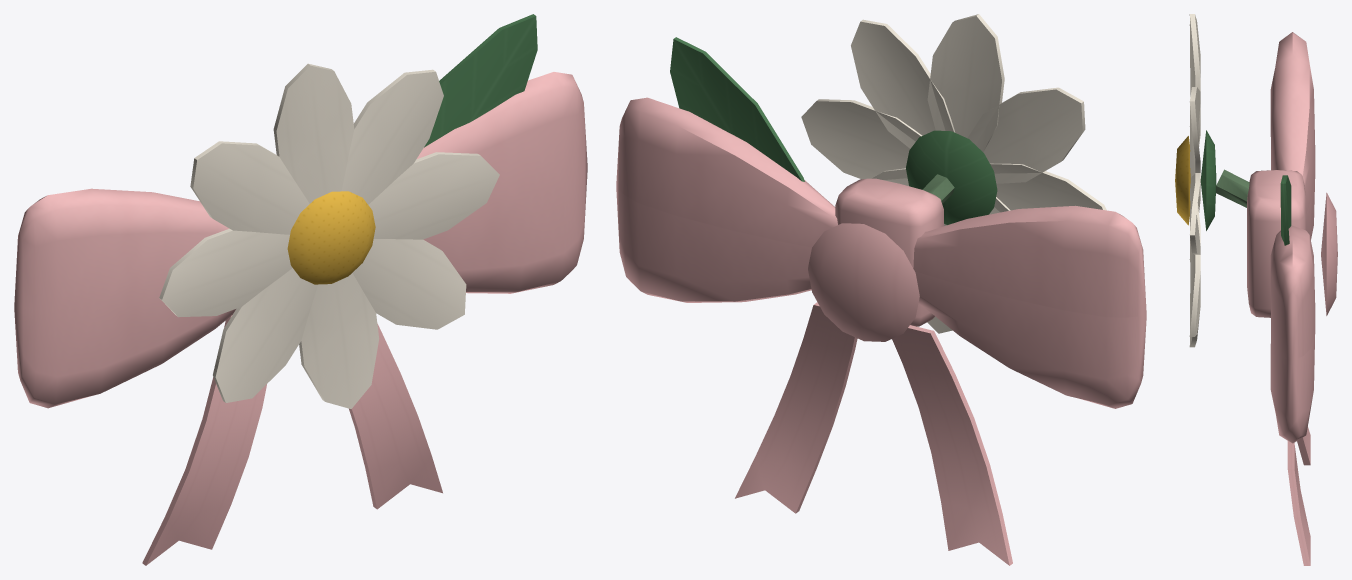
Rendered from KD_FlowerTail_Set.fbx.
3 renders of one model, left to right at view 1: azimuth 30°, elevation 25°; view 2: azimuth 150°, elevation 25°; view 3: azimuth 270°, elevation 25°, orthographic. The views are drawn at different scales.
Visible parts, largest first — view 1: KD_FlowerTail_Set; view 2: KD_FlowerTail_Set; view 3: KD_FlowerTail_Set.
Part boxes in pixels (bbox=[...]): KD_FlowerTail_Set: bbox=[14, 14, 587, 565]; KD_FlowerTail_Set: bbox=[616, 14, 1146, 565]; KD_FlowerTail_Set: bbox=[1175, 14, 1337, 565].
Bounding box in the file's own units: 0.1042 × 0.0907 × 0.0287.
Materials: 1 (1 with a texture image).
